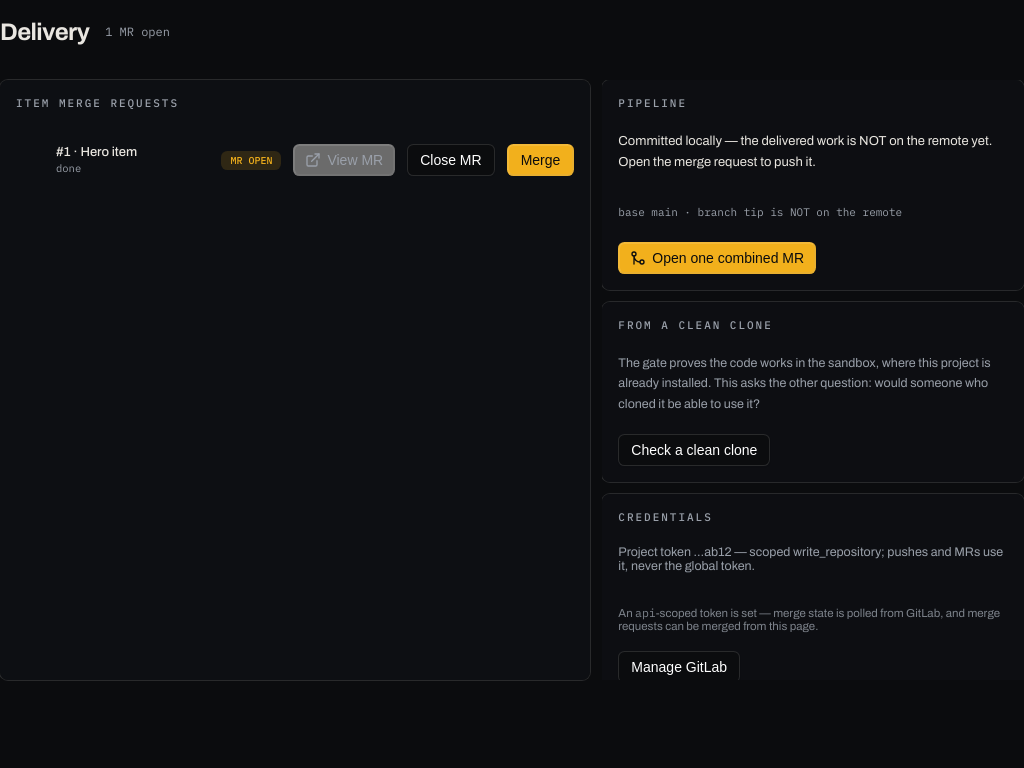
Scenario: merging an item MR from the console (#109) › a hard blocker names itself and offers NO merge at all
Click the button "Merge".
click(540, 160)  # box x1=507 y1=144 x2=574 y2=176
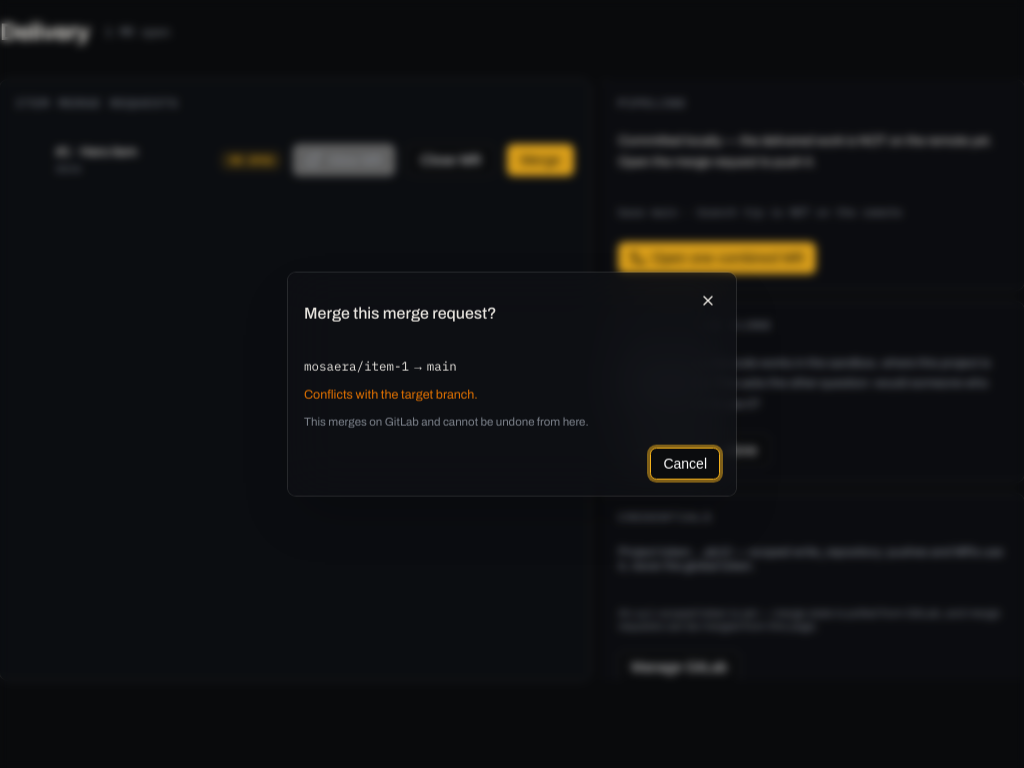
Expected: the text "Conflicts with the target branch." is shown, x1=304 y1=387 x2=478 y2=401
